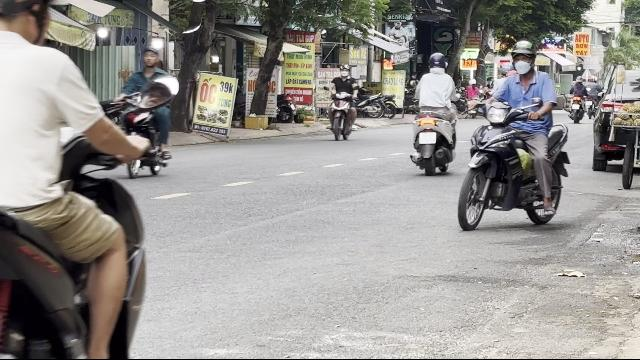helmet: (509, 39, 537, 75), (427, 51, 447, 71)
licenseplate: (419, 132, 437, 144)
motorcyclist: (454, 38, 574, 233), (408, 52, 459, 174)
